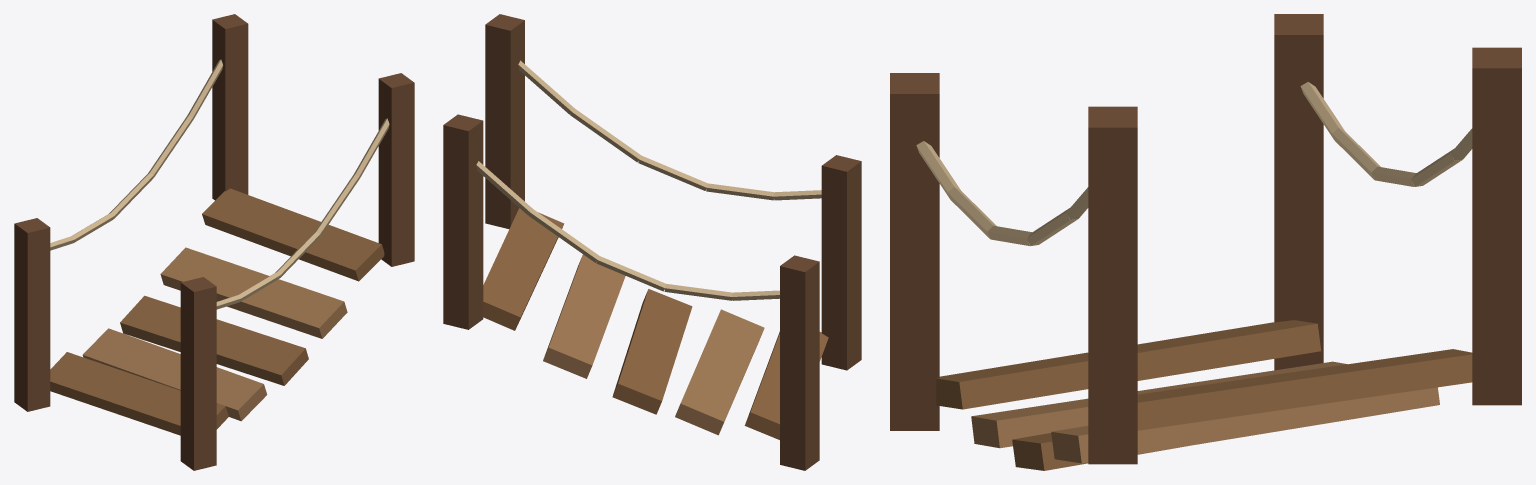
The model's file is bridge_0.glb.
The picture shows the model from 3 angles, left to right: view 1: azimuth 30°, elevation 25°; view 2: azimuth 150°, elevation 25°; view 3: azimuth 270°, elevation 25°; orthographic projection. The views are drawn at different scales.
Visible parts, largest first — view 1: bridge_0; view 2: bridge_0; view 3: bridge_0.
Part boxes in pixels (x1,y1,x2,y2): bridge_0: (14,14,414,470); bridge_0: (443,14,861,470); bridge_0: (890,14,1521,470).
Size of the model in its own units: 1.18 by 0.95 by 1.02.
